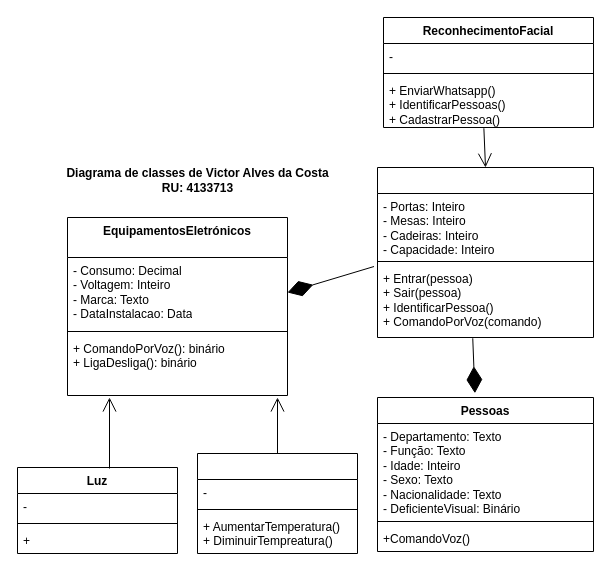
The diagram is 611 pixels wide and 574 high, and some of its shapes have lost their labels. Here are the shapes that lost their labels. From the top down, the box of each, then its label:
(376, 166, 594, 338): AmbienteDeTrabalho
(196, 452, 358, 554): ArCondicionado
